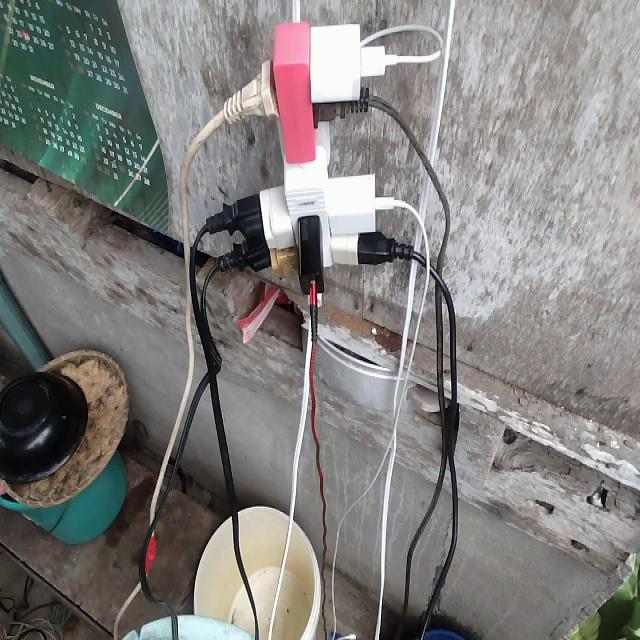-: (203, 21, 415, 328)
